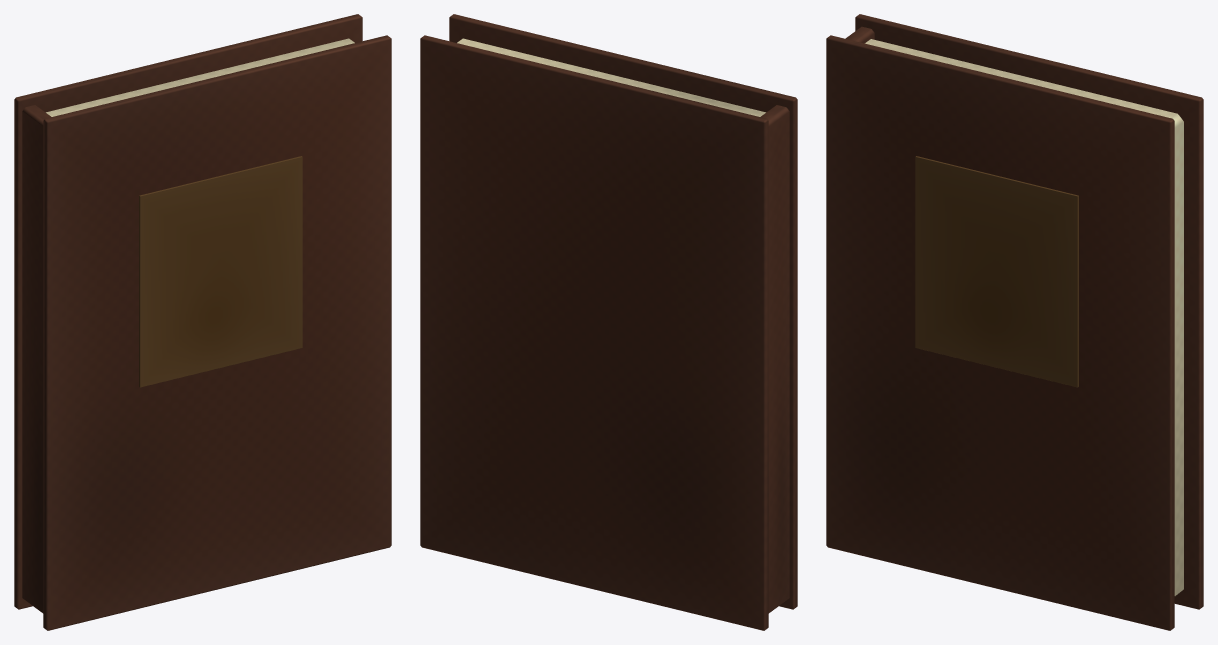
The model's file is Hold_Book.fbx.
3 renders of one model, left to right at view 1: azimuth 30°, elevation 25°; view 2: azimuth 150°, elevation 25°; view 3: azimuth 330°, elevation 25°, orthographic.
Parts seen in each view (by area): view 1: Hold_Book; view 2: Hold_Book; view 3: Hold_Book.
Part boxes in pixels (<box>): Hold_Book: <box>14,14,391,630</box>; Hold_Book: <box>420,14,797,630</box>; Hold_Book: <box>826,14,1203,630</box>.
Size of the model in its own units: 0.17 by 0.24 by 0.03.
2 materials, 2 textured.
